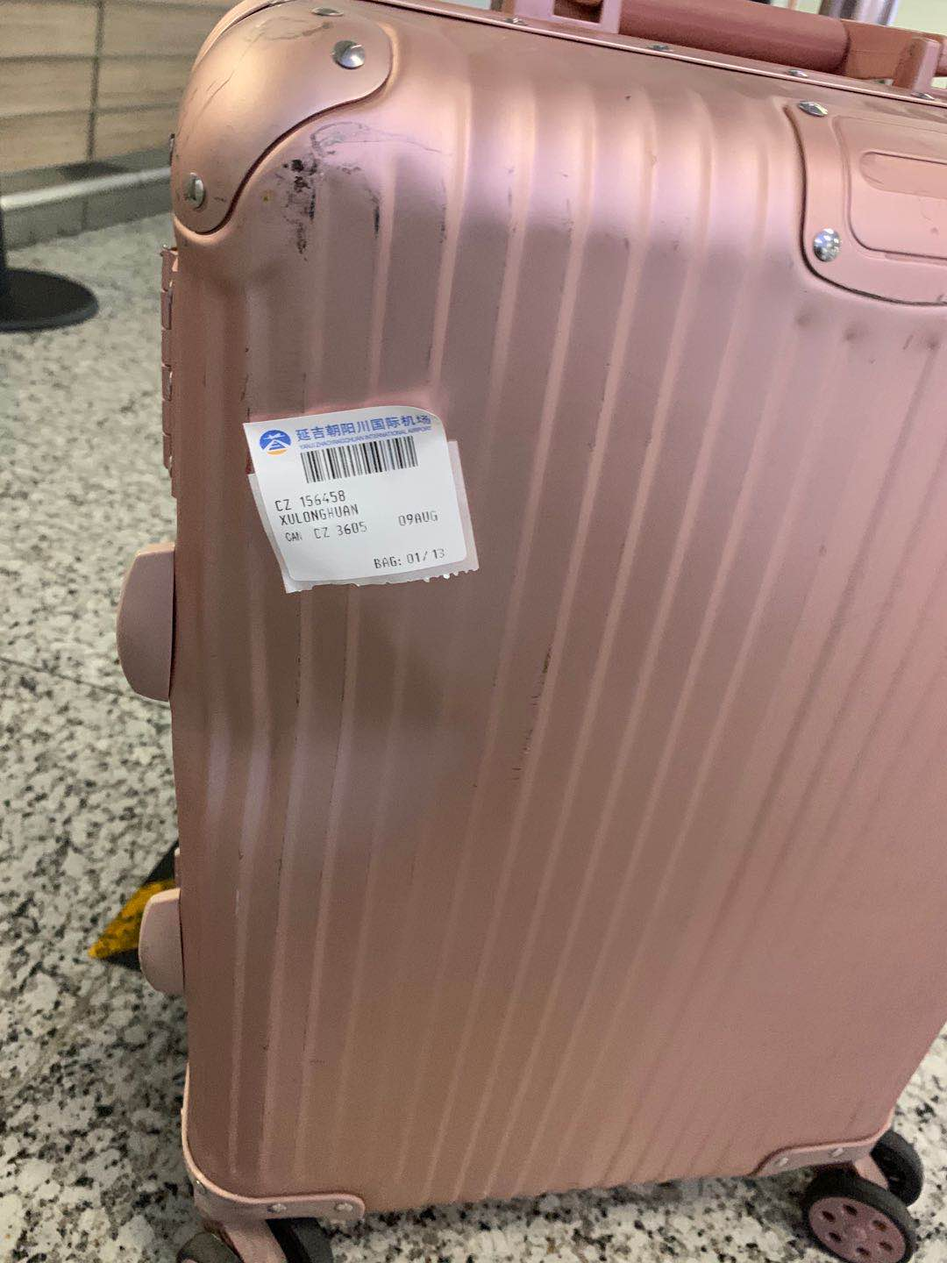hollow: (170, 603, 442, 868)
